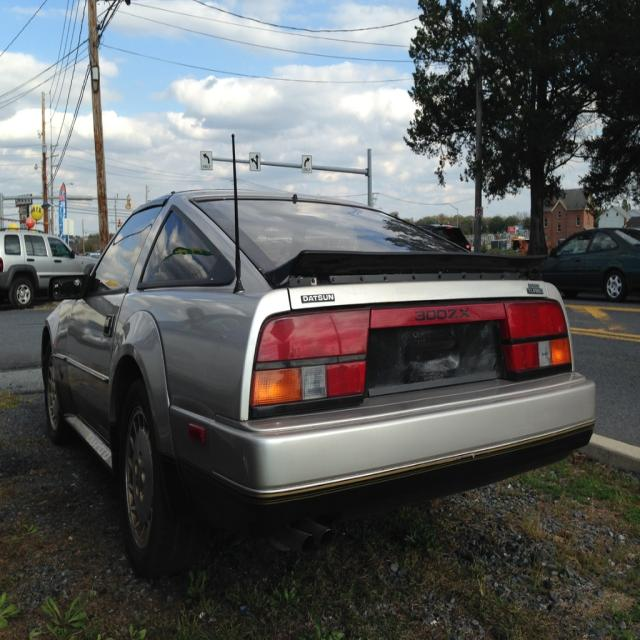car: (50, 187, 586, 564)
